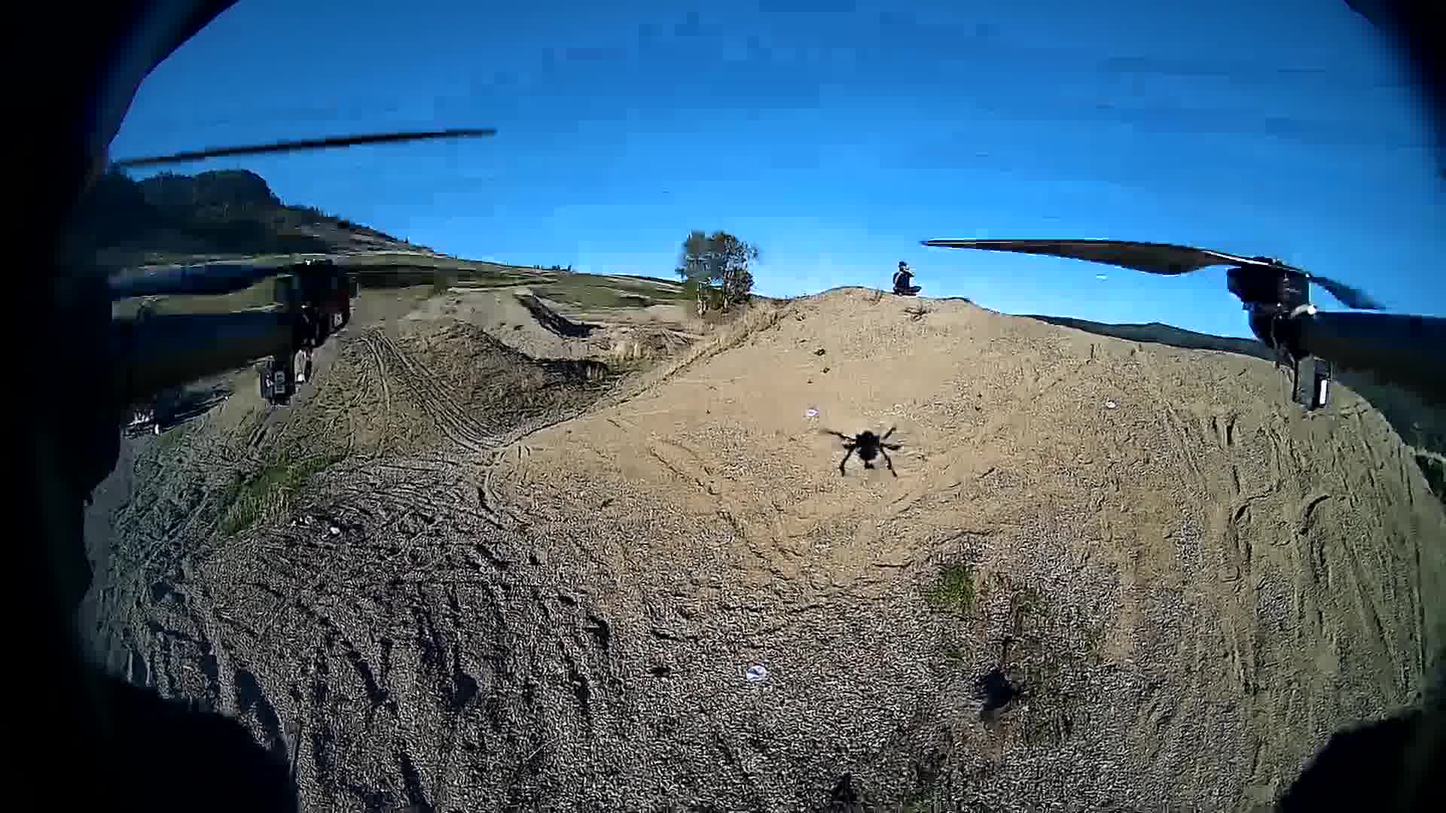Target: (747, 665, 764, 681)
